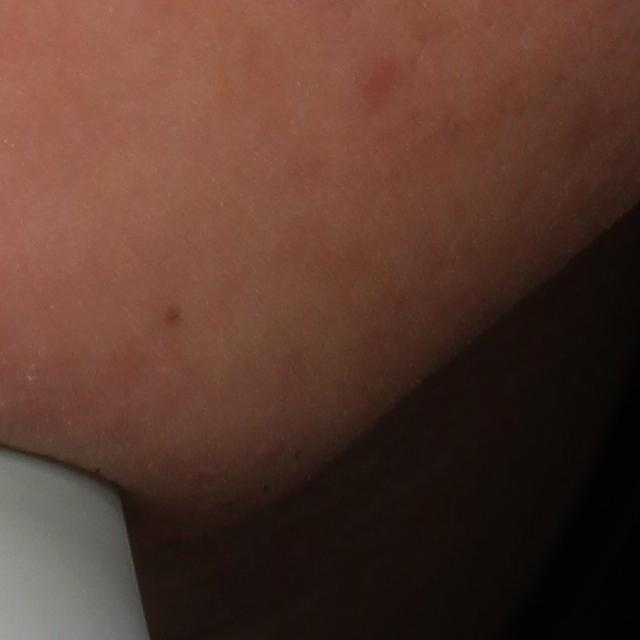nevus: (164, 302, 185, 328)
